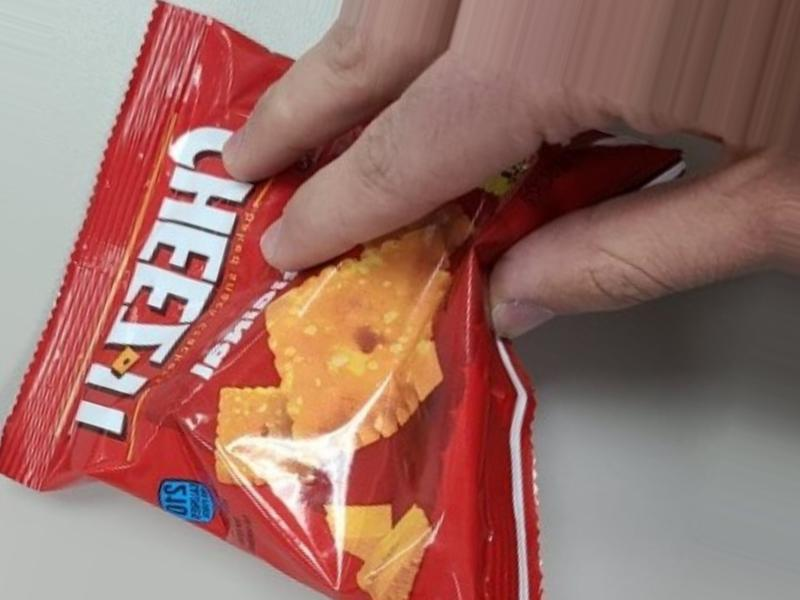cheez-it: (1, 1, 799, 599)
